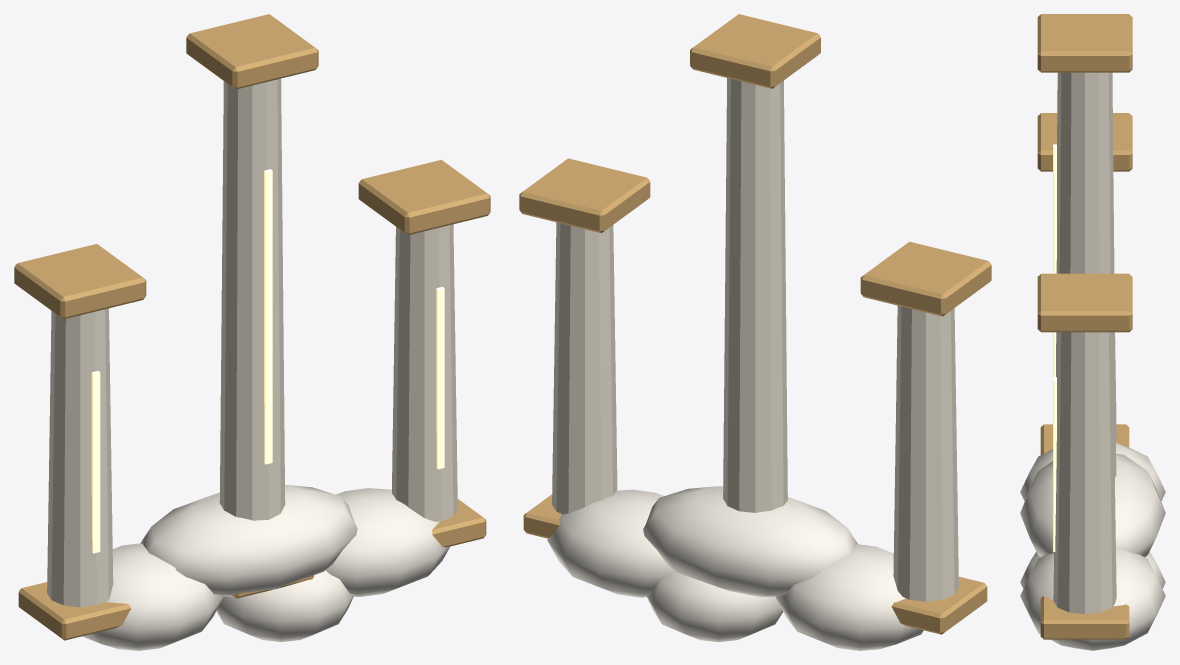
File: div3_near_03_7m.glb
The picture shows the model from 3 angles, left to right: view 1: azimuth 30°, elevation 25°; view 2: azimuth 150°, elevation 25°; view 3: azimuth 270°, elevation 25°; orthographic projection. The views are drawn at different scales.
Parts seen in each view (by area): view 1: div3_near_03_7m__porcelain-ivory, div3_near_03_7m__cloud-cream, div3_near_03_7m__satin-honey-brass, div3_near_03_7m__warm-luminous; view 2: div3_near_03_7m__porcelain-ivory, div3_near_03_7m__cloud-cream, div3_near_03_7m__satin-honey-brass; view 3: div3_near_03_7m__porcelain-ivory, div3_near_03_7m__satin-honey-brass, div3_near_03_7m__cloud-cream, div3_near_03_7m__warm-luminous.
Boxes of the visible parts, bbox=[...] form: div3_near_03_7m__porcelain-ivory: bbox=[47, 78, 457, 607]; div3_near_03_7m__cloud-cream: bbox=[82, 485, 449, 650]; div3_near_03_7m__satin-honey-brass: bbox=[14, 14, 490, 640]; div3_near_03_7m__warm-luminous: bbox=[91, 169, 444, 553]; div3_near_03_7m__porcelain-ivory: bbox=[552, 78, 958, 601]; div3_near_03_7m__cloud-cream: bbox=[547, 486, 923, 650]; div3_near_03_7m__satin-honey-brass: bbox=[519, 14, 991, 634]; div3_near_03_7m__porcelain-ivory: bbox=[1053, 72, 1116, 614]; div3_near_03_7m__satin-honey-brass: bbox=[1037, 14, 1132, 639]; div3_near_03_7m__cloud-cream: bbox=[1020, 443, 1165, 650]; div3_near_03_7m__warm-luminous: bbox=[1053, 144, 1056, 551].
Bounding box in the file's own units: 6 × 8.02 × 1.84.
